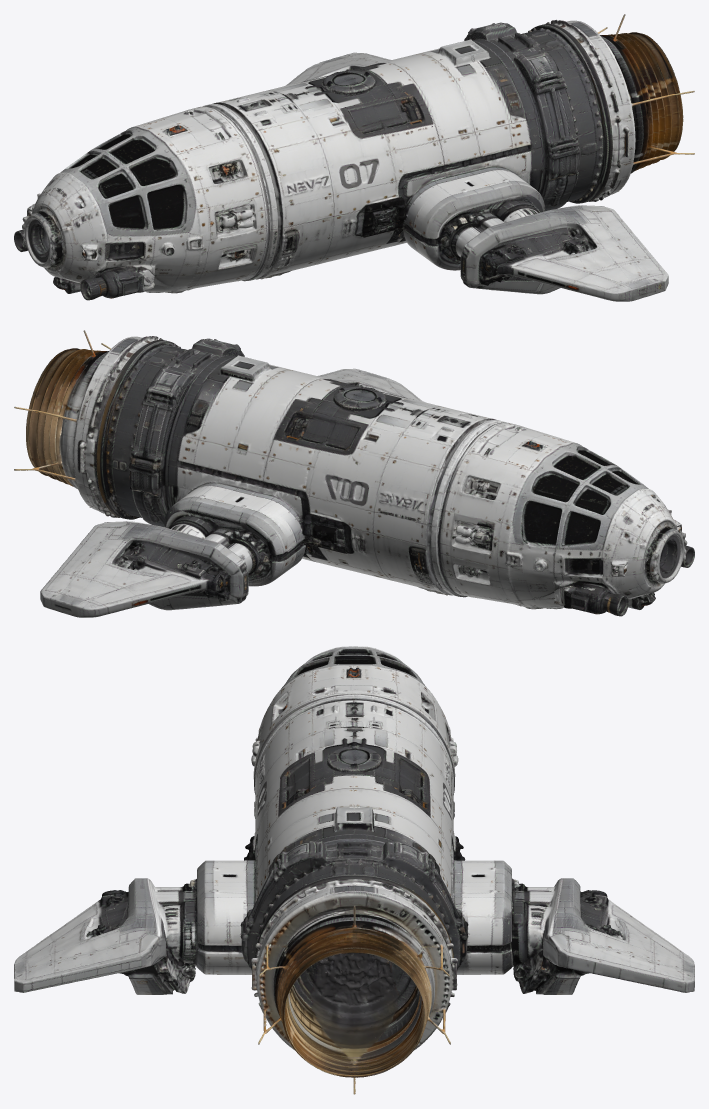
The model's file is ship1.glb.
3 views of the same model, one above another, from view 1: azimuth 30°, elevation 25°; view 2: azimuth 150°, elevation 25°; view 3: azimuth 270°, elevation 25° (orthographic). The views are drawn at different scales.
Size of the model in its own units: 1.9 by 0.5339 by 1.67.
Materials: 1 (1 with a texture image).
